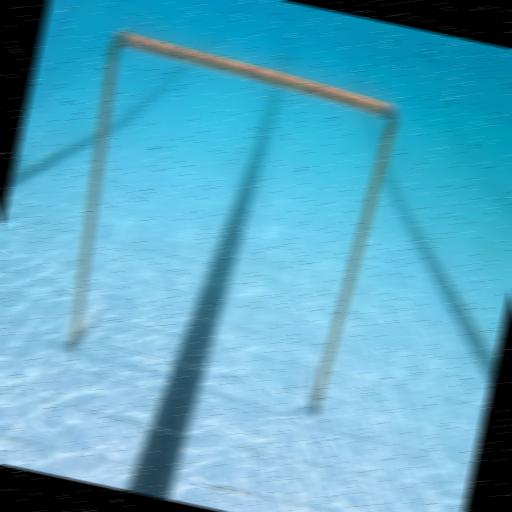gate: (42, 28, 404, 419)
